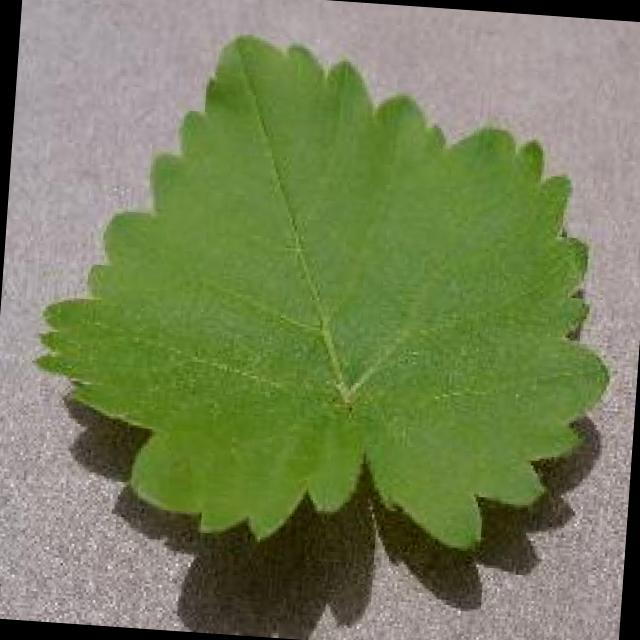healthy: (41, 36, 606, 548)
